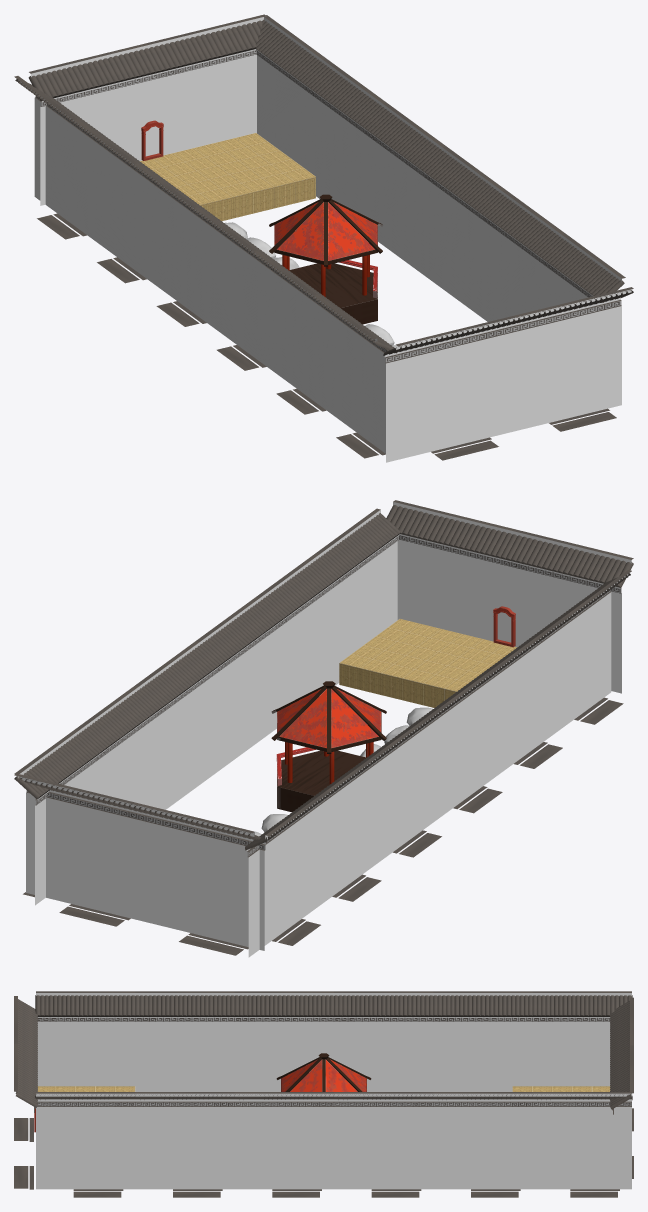
The model's file is Floor_1.5_aka_spinnyfloor.fbx.
3 views of the same model, one above another, from view 1: azimuth 30°, elevation 25°; view 2: azimuth 150°, elevation 25°; view 3: azimuth 270°, elevation 25° (orthographic). The views are drawn at different scales.
Parts seen in each view (by area): view 1: polySurface104, polySurface224, polySurface368, polySurface416, polySurface344, ChinesePavilion, polySurface94, polySurface78, polySurface98, polySurface95, polySurface93; view 2: polySurface104, polySurface224, polySurface368, polySurface416, ChinesePavilion, polySurface344, polySurface100, polySurface78, polySurface489, polySurface94, polySurface93; view 3: polySurface224, polySurface104, polySurface368, ChinesePavilion, polySurface416, polySurface344.
Boxes of the visible parts, x1=… form: polySurface104: x1=14, y1=76, x2=396, y2=458; polySurface224: x1=255, y1=15, x2=625, y2=321; polySurface368: x1=28, y1=14, x2=266, y2=205; polySurface416: x1=502, y1=287, x2=633, y2=433; polySurface344: x1=384, y1=316, x2=515, y2=462; ChinesePavilion: x1=269, y1=194, x2=382, y2=324; polySurface94: x1=242, y1=178, x2=274, y2=213; polySurface78: x1=263, y1=173, x2=295, y2=208; polySurface98: x1=221, y1=183, x2=253, y2=218; polySurface95: x1=284, y1=168, x2=315, y2=203; polySurface93: x1=200, y1=188, x2=232, y2=220; polySurface104: x1=245, y1=570, x2=631, y2=957; polySurface224: x1=14, y1=508, x2=400, y2=905; polySurface368: x1=14, y1=773, x2=266, y2=955; polySurface416: x1=393, y1=500, x2=514, y2=641; ChinesePavilion: x1=271, y1=681, x2=386, y2=812; polySurface344: x1=501, y1=529, x2=633, y2=693; polySurface100: x1=402, y1=669, x2=434, y2=705; polySurface78: x1=360, y1=659, x2=392, y2=694; polySurface489: x1=339, y1=654, x2=371, y2=689; polySurface94: x1=381, y1=664, x2=413, y2=699; polySurface93: x1=423, y1=674, x2=455, y2=707; polySurface224: x1=35, y1=1092, x2=632, y2=1197; polySurface104: x1=35, y1=991, x2=632, y2=1091; polySurface368: x1=610, y1=997, x2=633, y2=1178; ChinesePavilion: x1=276, y1=1053, x2=371, y2=1091; polySurface416: x1=14, y1=1043, x2=35, y2=1189; polySurface344: x1=14, y1=996, x2=33, y2=1141.
Size of the model in its own units: 24.41 by 12.09 by 62.41.
